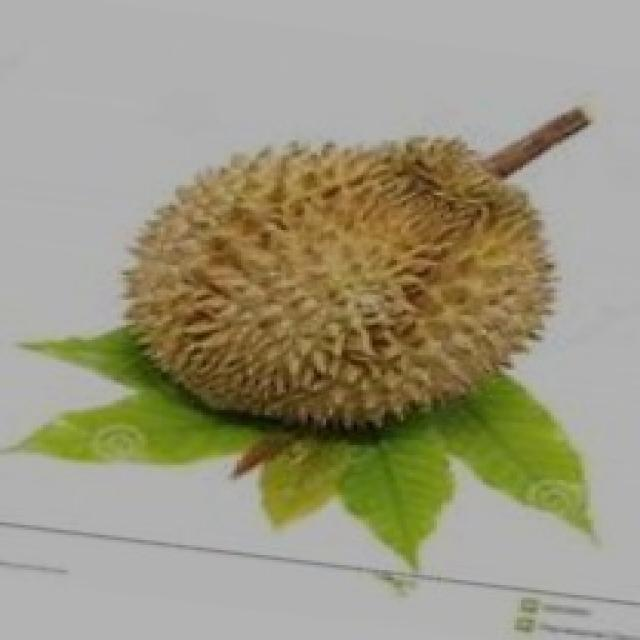fruit: (74, 95, 458, 477)
